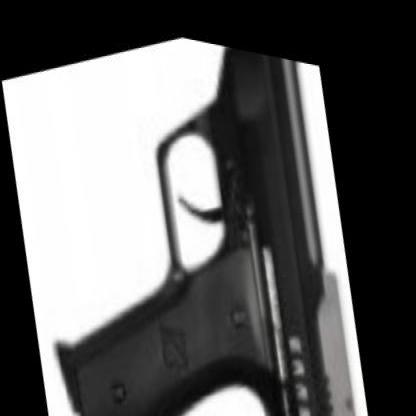pistol: (0, 3, 409, 414)
